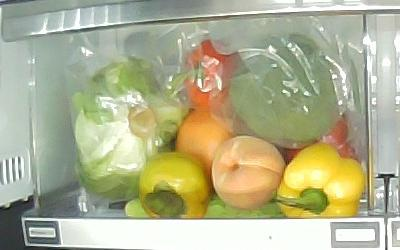broccoli_vinyl: (231, 33, 343, 141)
cucumber: (124, 194, 287, 219)
lettuce_vinyl: (70, 57, 191, 199)
paprika: (277, 143, 364, 218)
paprika_vinyl: (168, 39, 242, 108)
peach: (212, 135, 286, 210)
persimmon: (139, 152, 209, 219)
